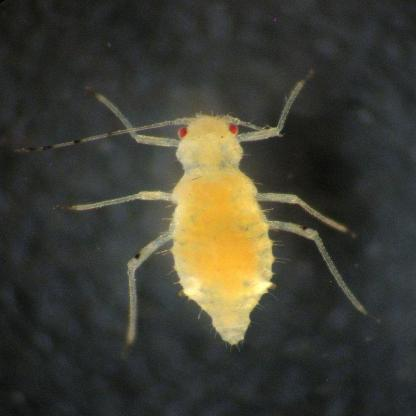aphid: (64, 68, 384, 342)
